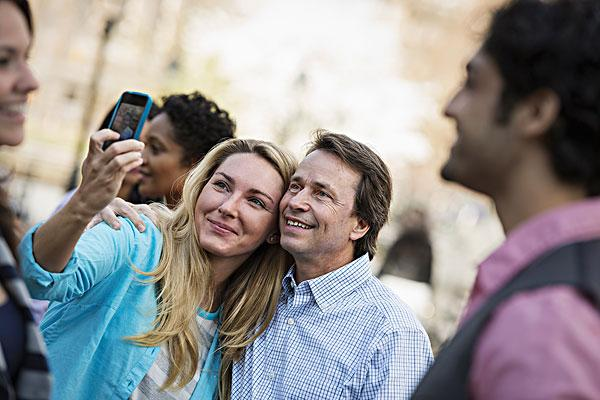taking photos: (65, 86, 155, 221)
